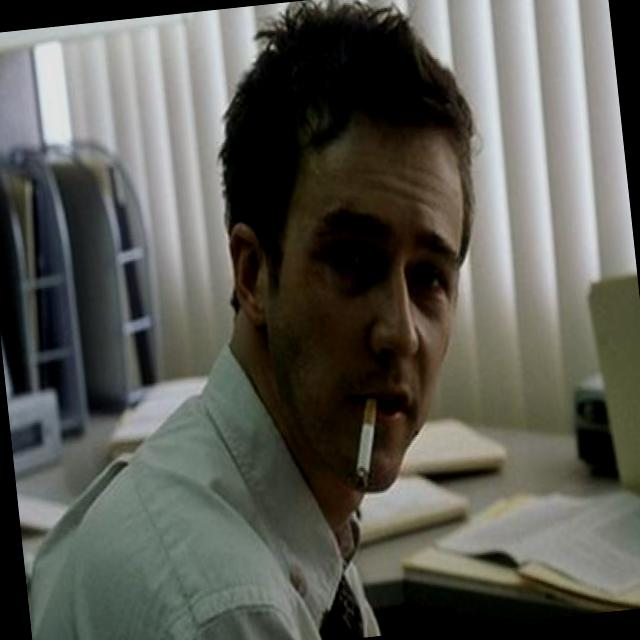cigarette: (341, 378, 394, 496)
